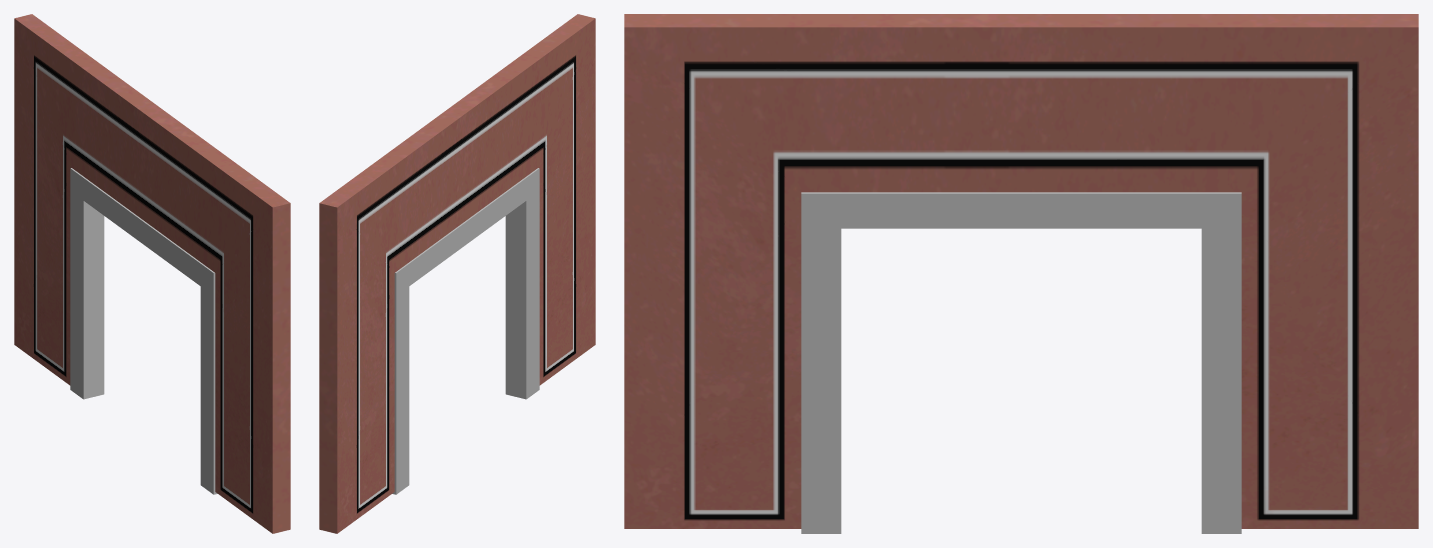
The model's file is SM_Wall04K.fbx.
The picture shows the model from 3 angles, left to right: view 1: azimuth 30°, elevation 25°; view 2: azimuth 150°, elevation 25°; view 3: azimuth 270°, elevation 25°; orthographic projection. The views are drawn at different scales.
Visible parts, largest first — view 1: SM_Wall04K; view 2: SM_Wall04K; view 3: SM_Wall04K.
Part boxes in pixels (left/top/right/bottom): SM_Wall04K: left=14, top=14, right=290, bottom=533; SM_Wall04K: left=319, top=14, right=595, bottom=533; SM_Wall04K: left=624, top=14, right=1418, bottom=533.
Size of the model in its own units: 11.37 by 245 by 172.
